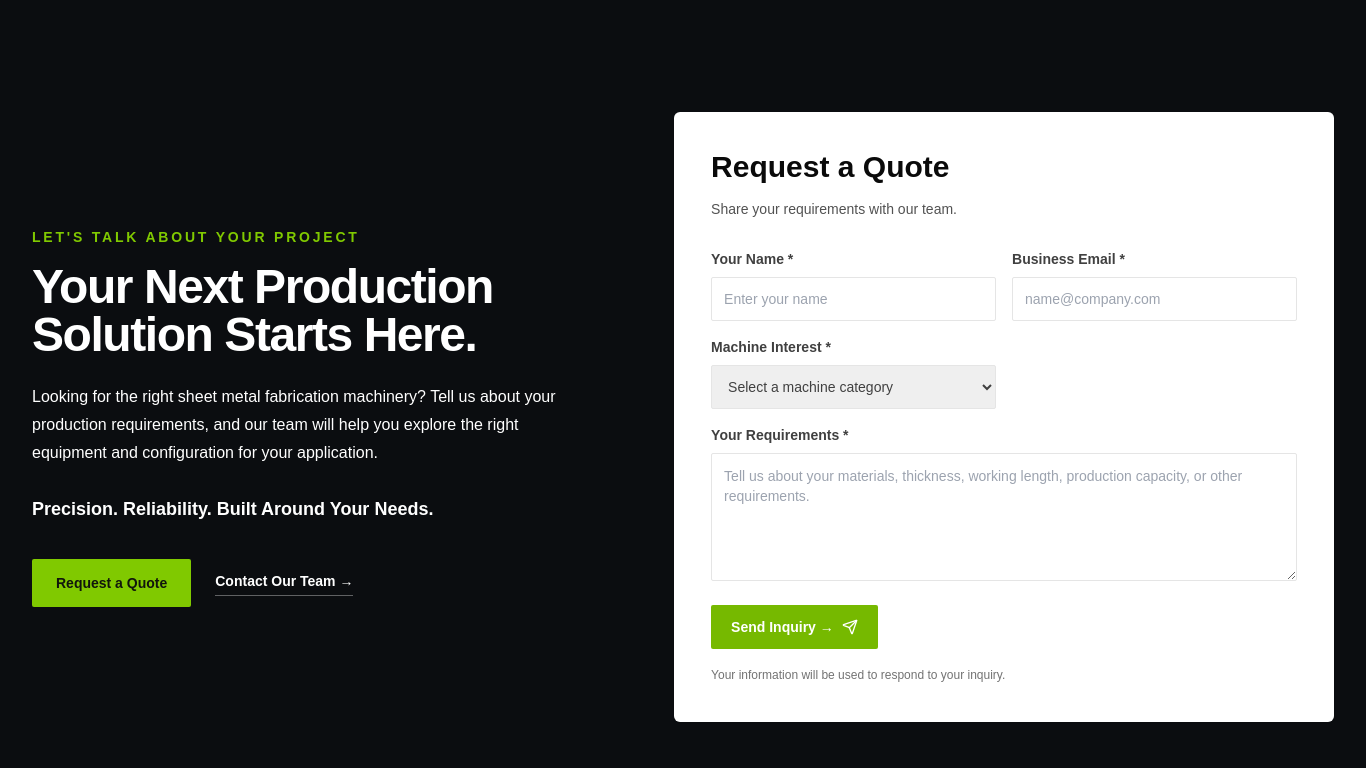
Test: HomeContactSection › submits the homepage fields through the existing inquiry API once
The width and height of the screenshot is (1366, 768).
Step 1. Type "Metal Buyer" into the field labelled "Your Name *" → (854, 299), box [711,277,996,321]
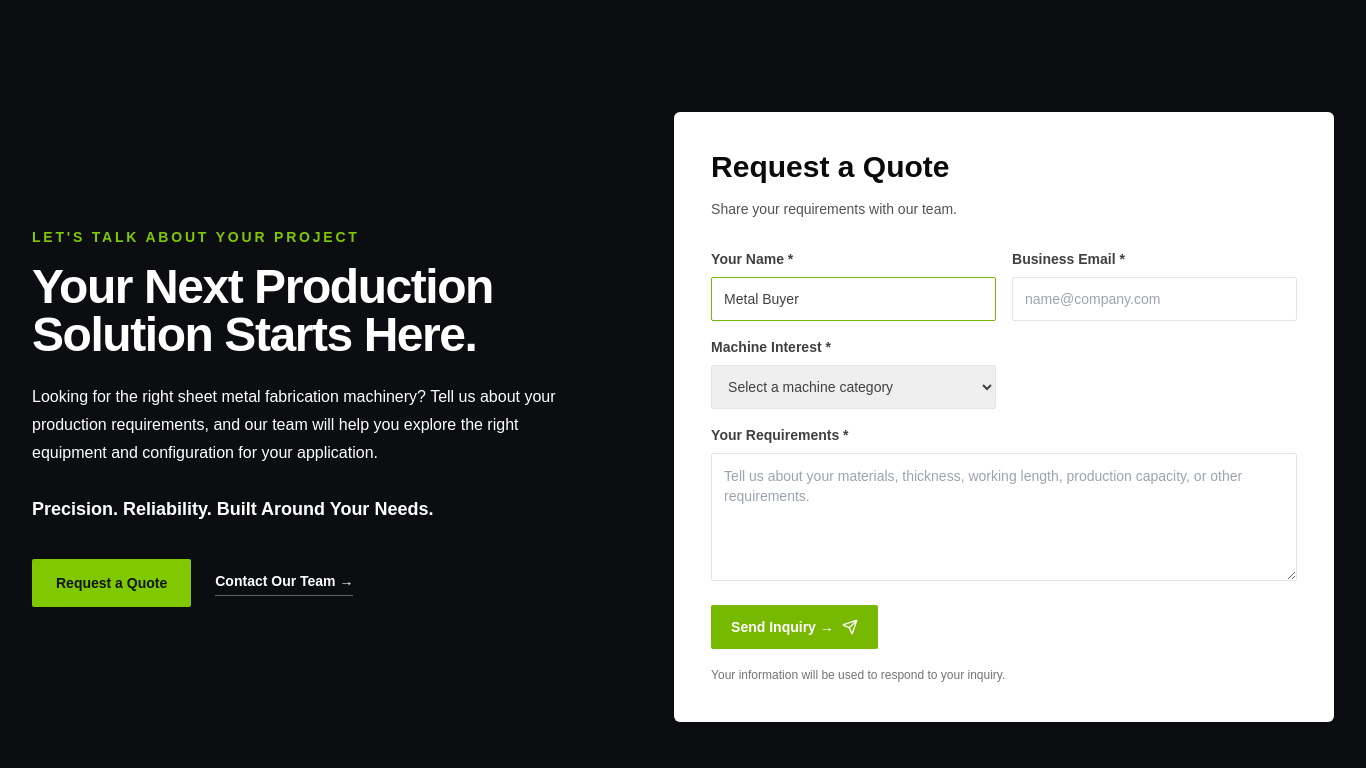
Step 2. Type "buyer@example.com" into the field labelled "Business Email *" → (1154, 299), box [1012,277,1297,321]
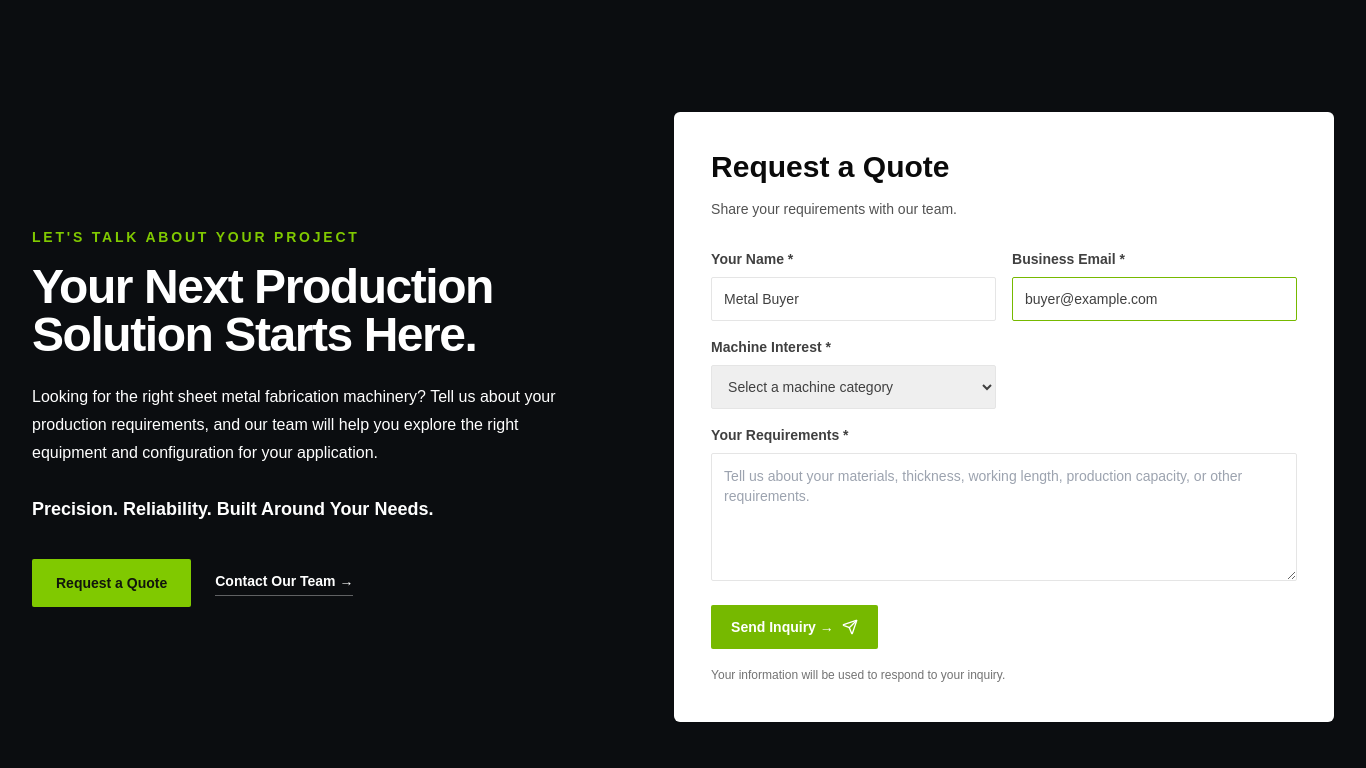
Step 3. Select "PRESS BRAKES" in the dropdown labelled "Machine Interest *" → (854, 387), box [711,365,996,409]
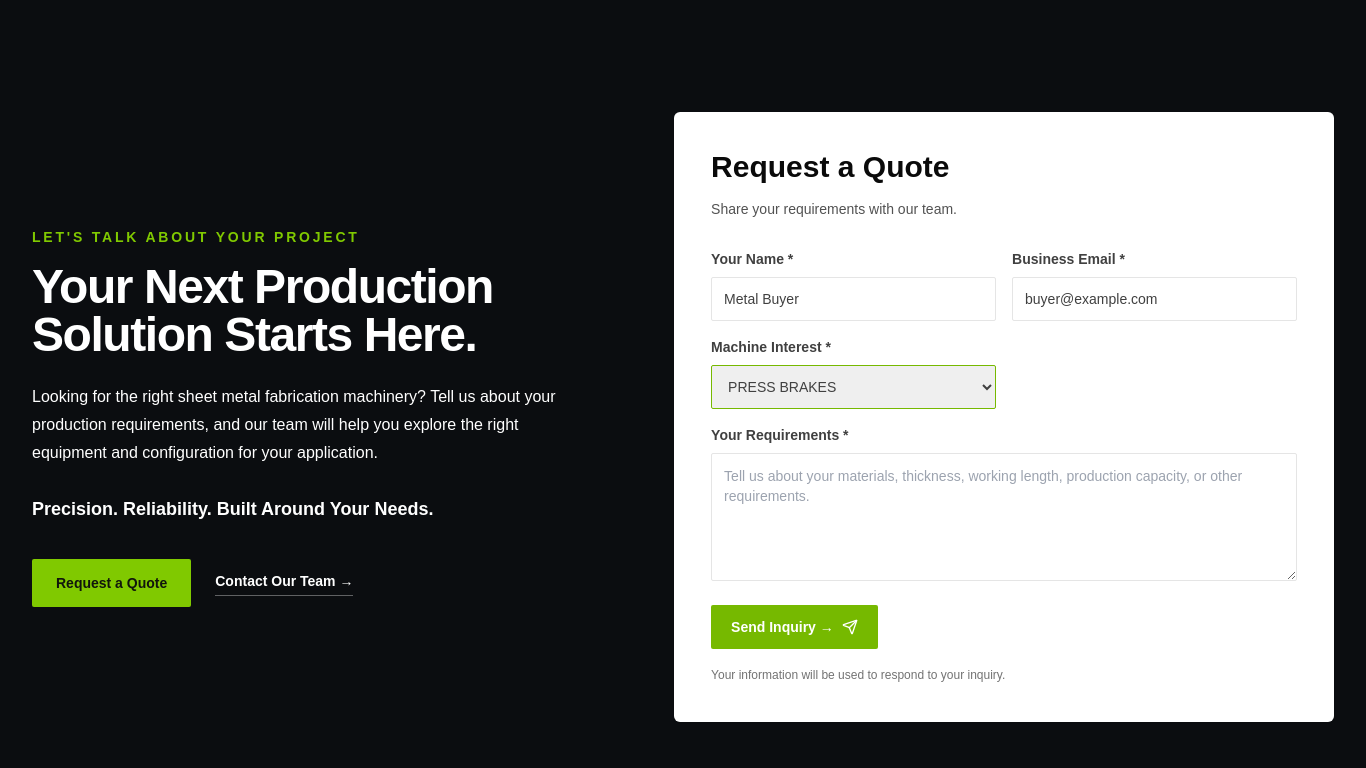
Step 4. Type "2 mm stainless steel, 3200 mm working length." into the text box labelled "Your Requirements *" → (1004, 517), box [711,453,1297,581]
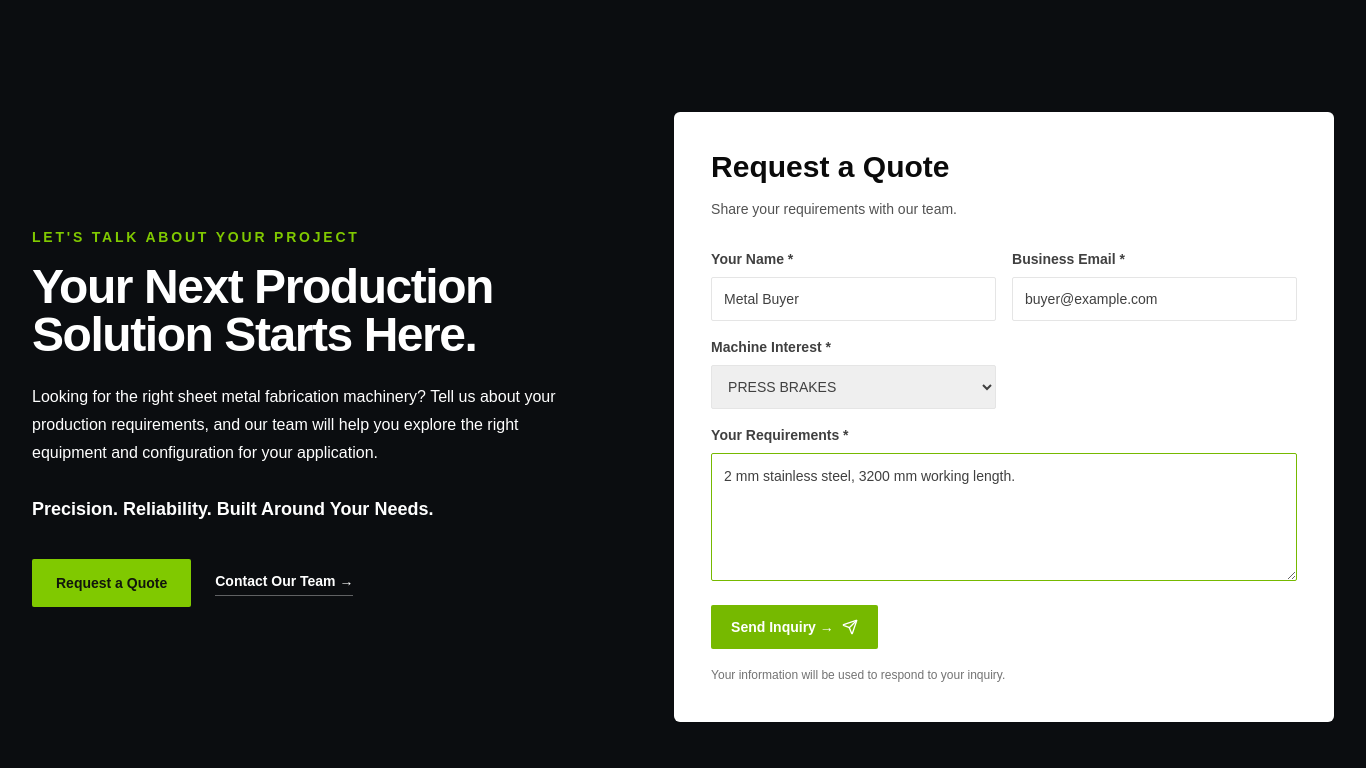
Step 5. Click the button "Send Inquiry →" → (794, 627), box [711,605,878,649]
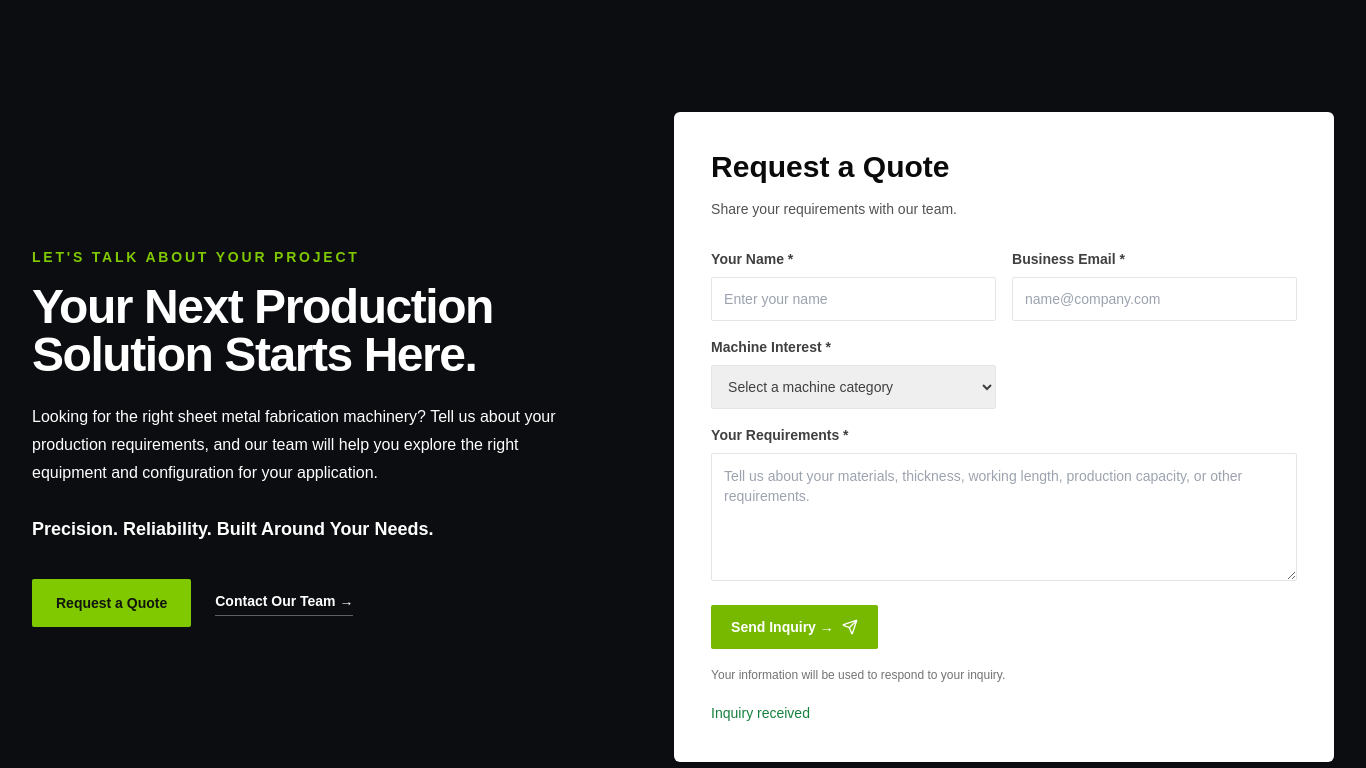
Check: the text "Inquiry received" is shown, box [711,705,810,721]
